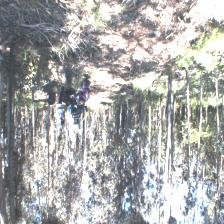trunktrack_idkeyframe: (8, 58, 15, 162), (167, 76, 173, 147)
